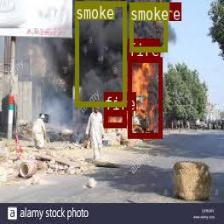fire: (128, 57, 162, 137), (103, 110, 126, 126), (148, 2, 166, 16)
smoke: (74, 0, 126, 106), (130, 2, 166, 51)
